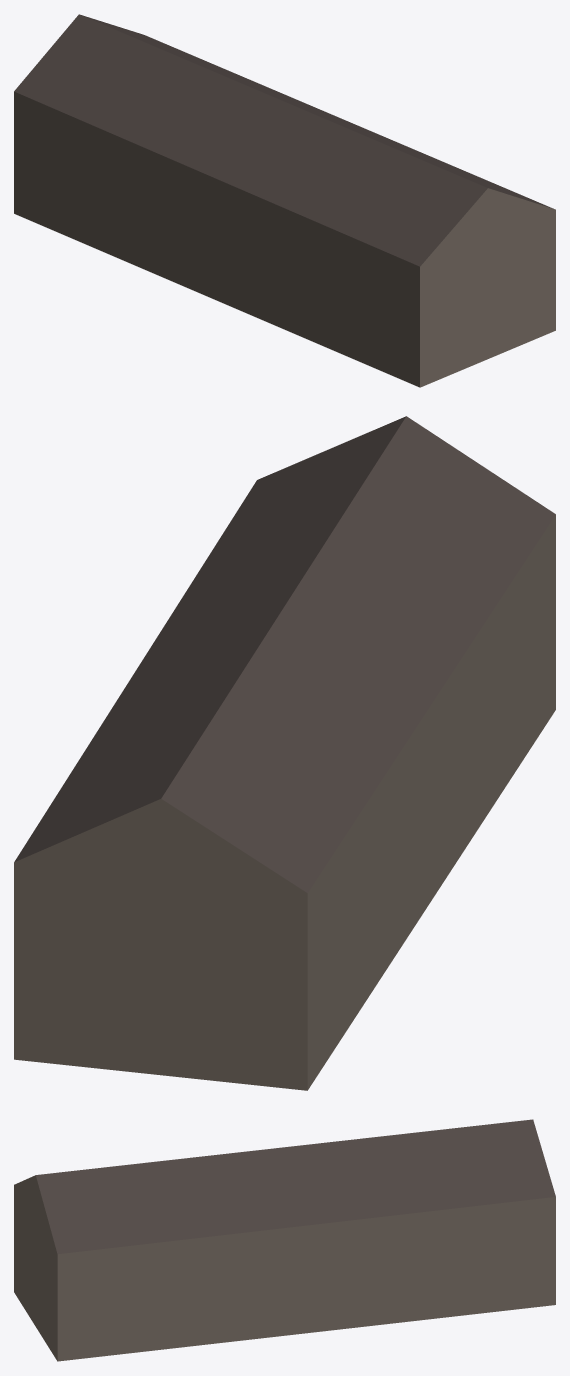
3 renders of one model, top to bottom at view 1: azimuth 30°, elevation 25°; view 2: azimuth 150°, elevation 25°; view 3: azimuth 270°, elevation 25°, orthographic. The views are drawn at different scales.
Visible parts, largest first — view 1: HP-w1516161900; view 2: HP-w1516161900; view 3: HP-w1516161900.
Part boxes in pixels (x1,y1,x2,y2): HP-w1516161900: (14, 14, 555, 387); HP-w1516161900: (14, 416, 555, 1090); HP-w1516161900: (14, 1119, 555, 1361).
Bounding box in the file's own units: 14.88 × 8.49 × 27.47.
